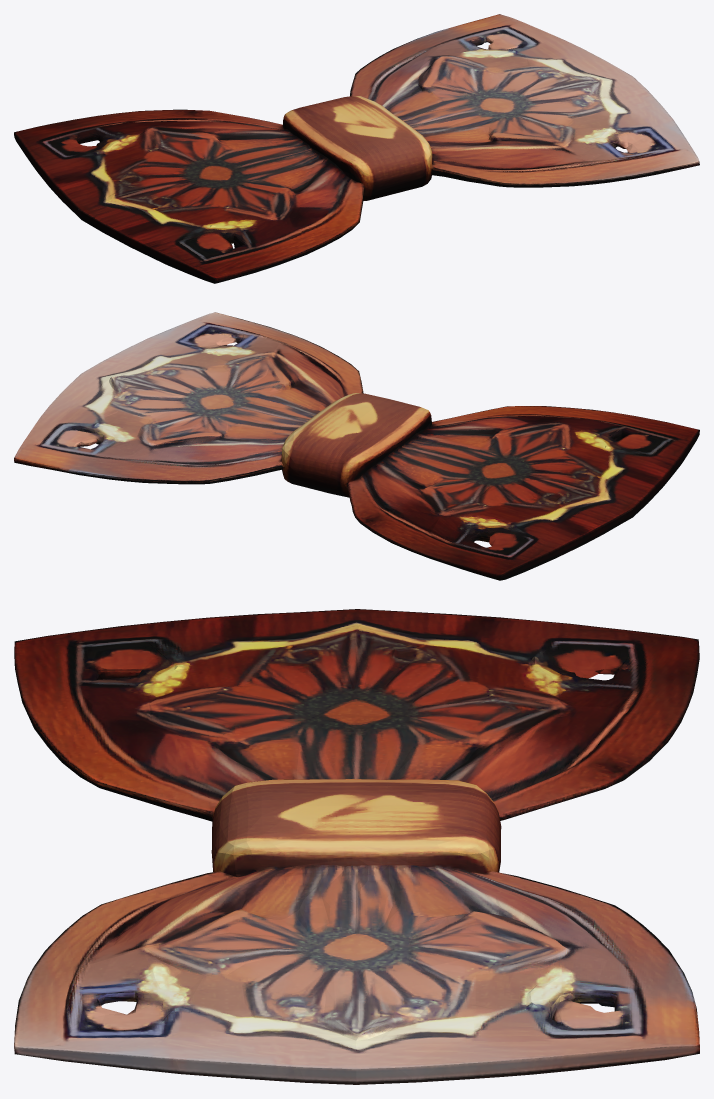
The model's file is wooden-bowtie-art-deco.jpeg.glb.
The picture shows the model from 3 angles, top to bottom: view 1: azimuth 30°, elevation 25°; view 2: azimuth 150°, elevation 25°; view 3: azimuth 270°, elevation 25°; orthographic projection. The views are drawn at different scales.
Visible parts, largest first — view 1: world; view 2: world; view 3: world.
Part boxes in pixels (box(x1,y1,x2,y2)): world: box(14, 14, 699, 283); world: box(14, 312, 699, 580); world: box(14, 609, 699, 1084).
Size of the model in its own units: 1 by 0.0829 by 0.63.
1 material, 1 textured.
